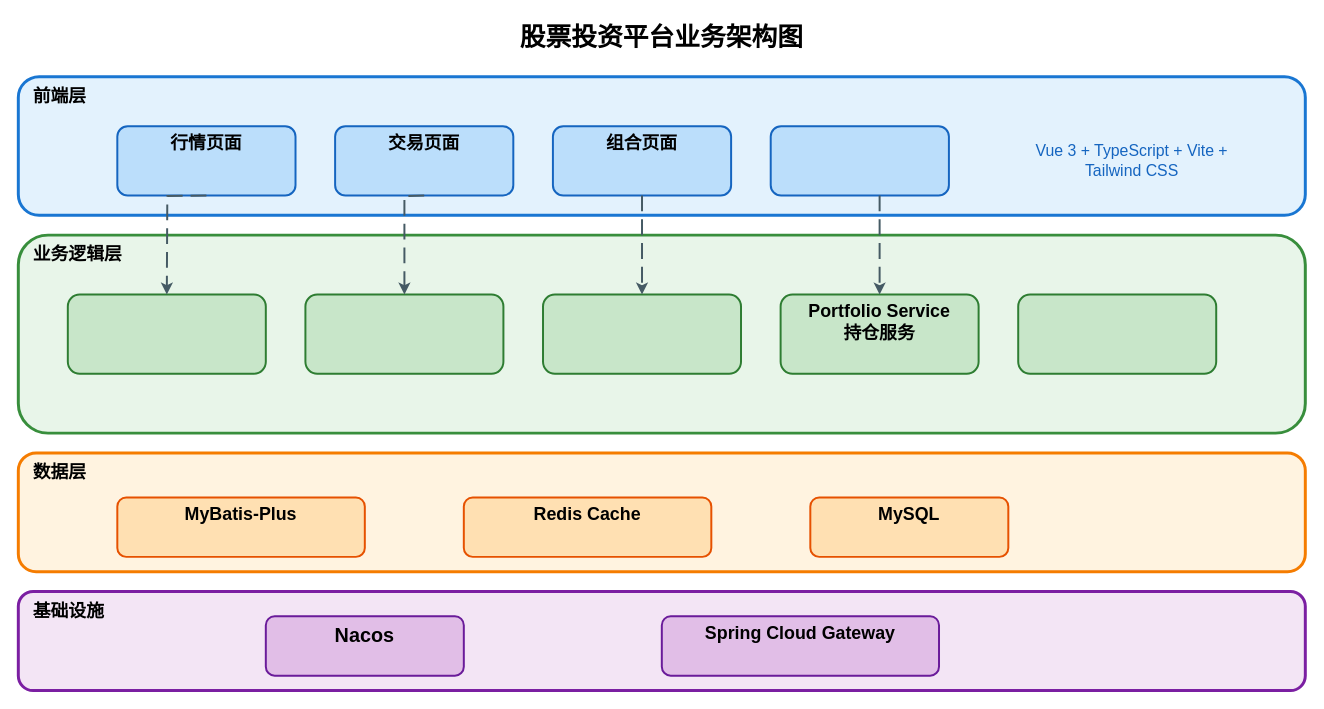
The diagram is 1324 pixels wide and 709 high, and some of its shapes have lost their labels. Here are the shapes that lost their labels. From the top down, the centre of each, then its label:
At (x=859, y=160): "分析页面".
At (x=166, y=333): "User Service 用户服务".
At (x=404, y=333): "Market Service 行情服务".
At (x=642, y=333): "Trading Service 交易服务".
At (x=1117, y=333): "Analysis Service 分析服务".
